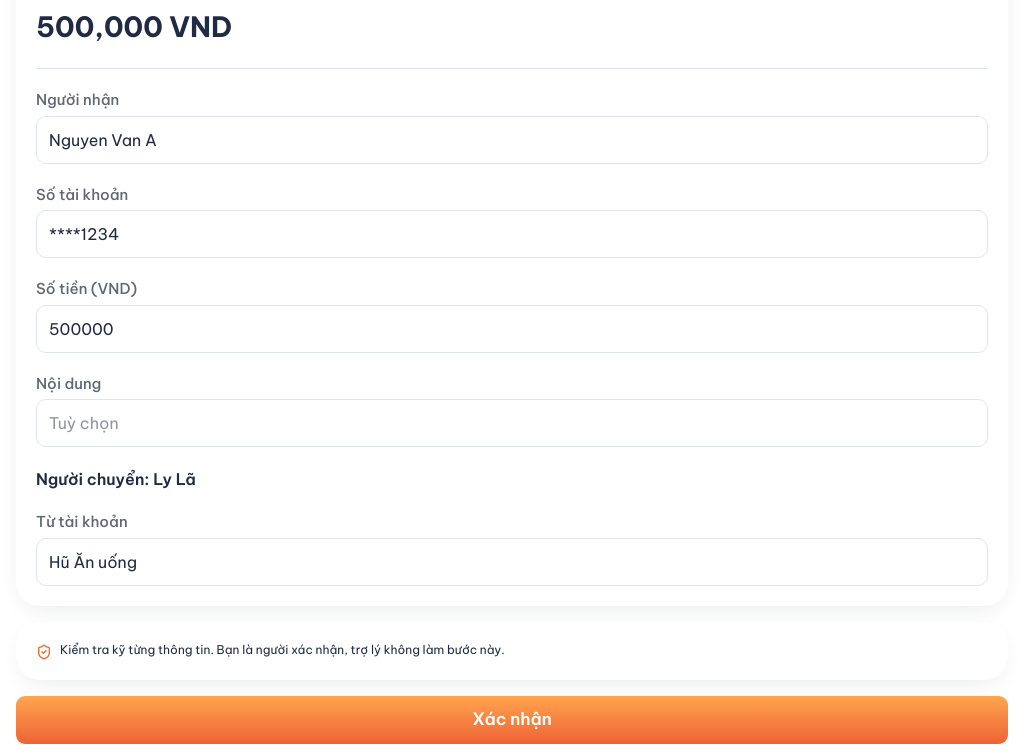
Test case: TransferConfirm — always create + categorize › 0-category jar records type:transfer (no phantom expense, F#1)
(page scrolled)
Click the button with aria-label "Xác nhận chuyển tiền".
click(512, 720)  # box top-left (16, 696), bottom-right (1008, 744)
(page scrolled)
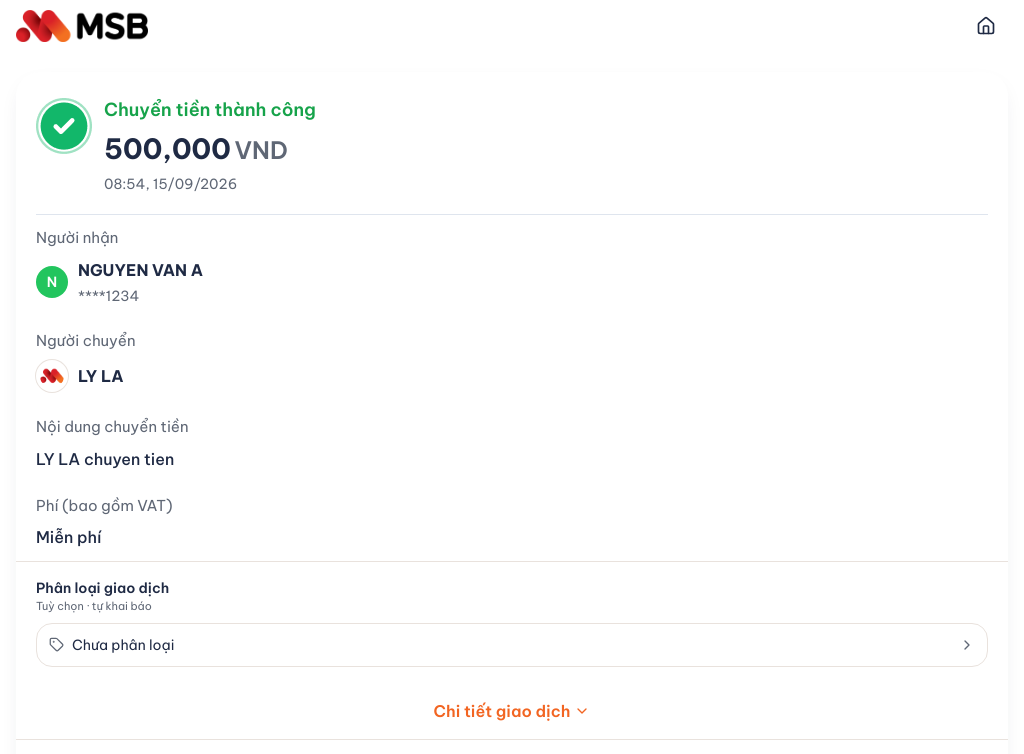
expect the text "Chuyển tiền thành công" is shown: met, box top-left (104, 96), bottom-right (316, 124)
